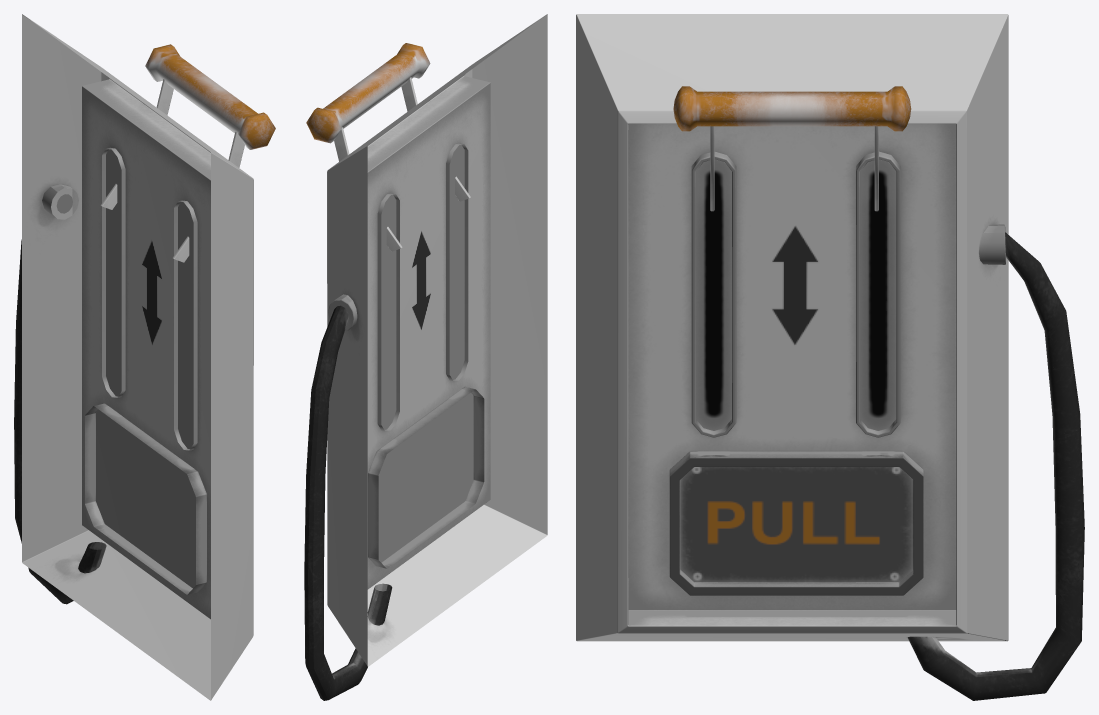
The model's file is laver.obj.
The picture shows the model from 3 angles, left to right: view 1: azimuth 30°, elevation 25°; view 2: azimuth 150°, elevation 25°; view 3: azimuth 270°, elevation 25°; orthographic projection. The views are drawn at different scales.
Visible parts, largest first — view 1: Box134; view 2: Box134; view 3: Box134.
Boxes of the visible parts, <box> form: Box134: <box>14,14,275,700</box>; Box134: <box>304,14,547,700</box>; Box134: <box>576,14,1084,700</box>.
Size of the model in its own units: 0.1967 by 0.9911 by 0.682.
Materials: 1 (1 with a texture image).
